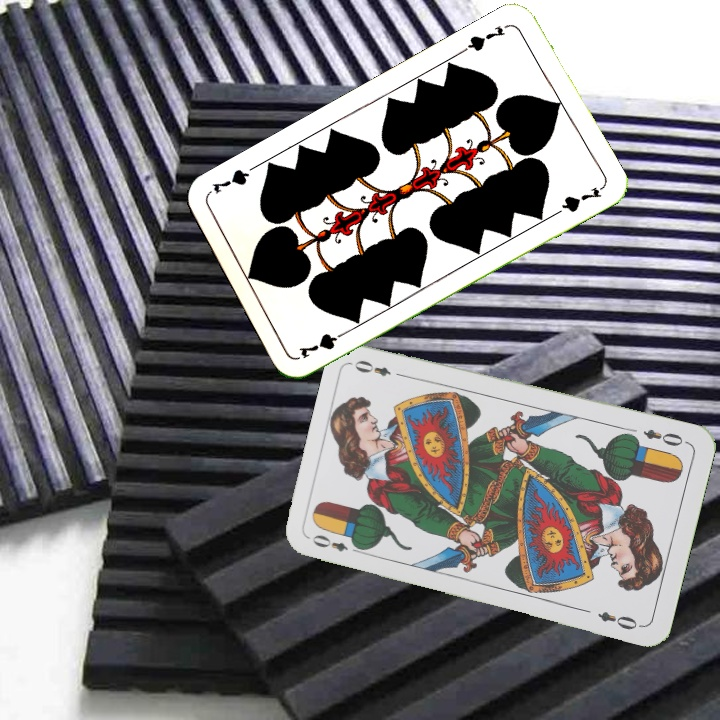EO: (308, 530, 365, 556), (639, 424, 691, 449)
G7: (295, 326, 352, 362), (459, 22, 508, 55)
